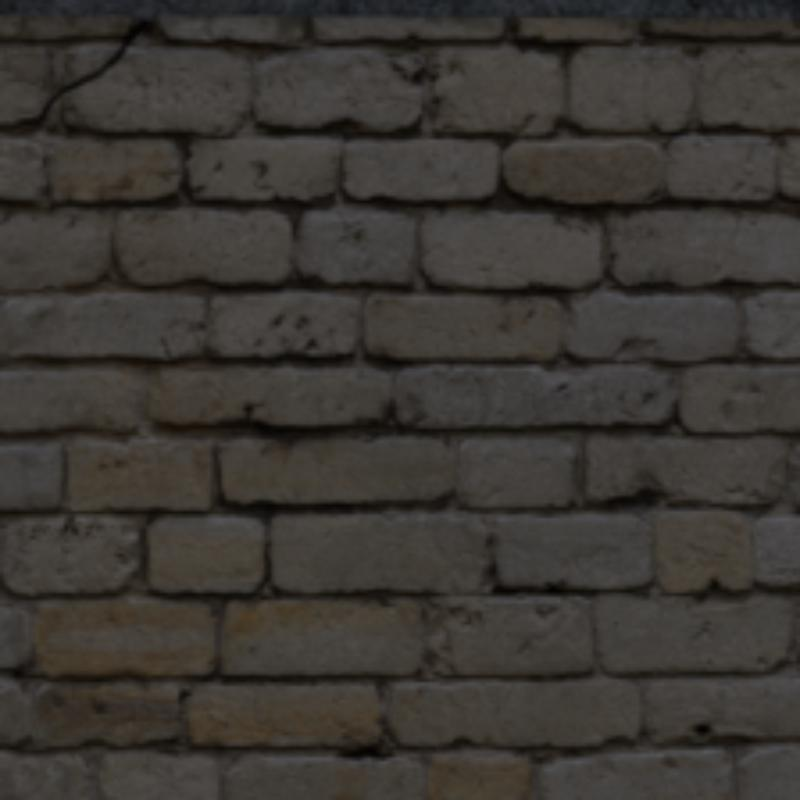pothole: (14, 21, 150, 125)
